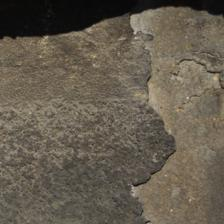Crack: (63, 8, 119, 214)
